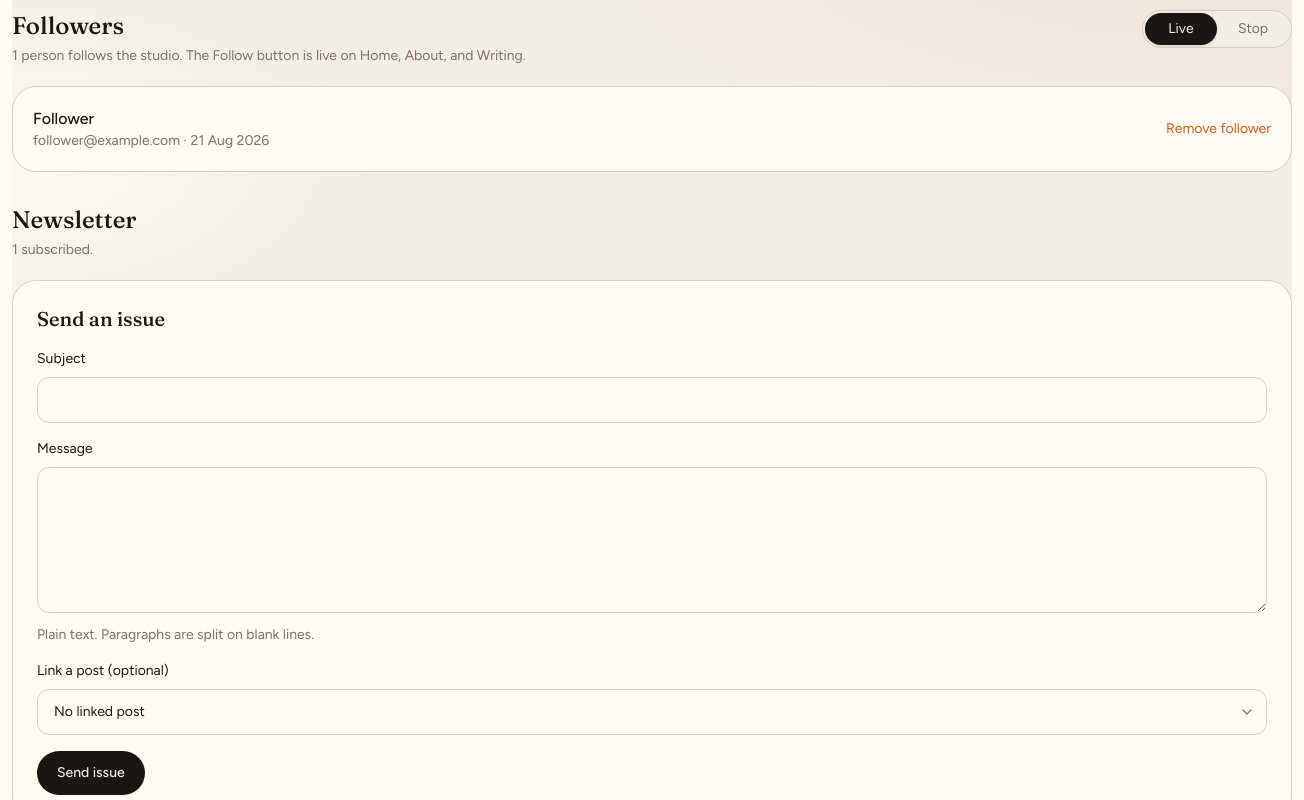
AdminAudiencePage › lets studio stop the public Follow button
(page scrolled)
Check: the heading "Followers" is shown, box [12,11,124,40]
Click the button "Stop": point(1253, 29) [1217,13,1289,45]
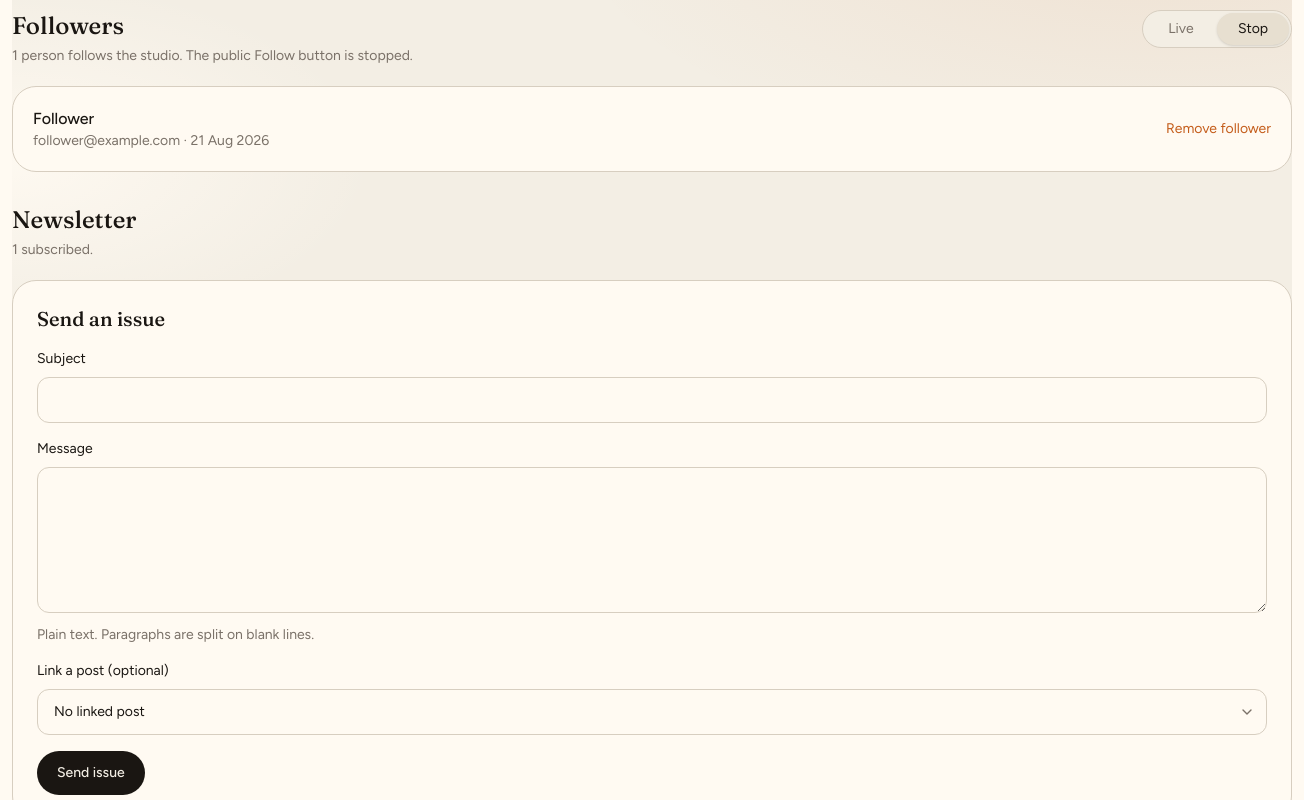
Check: the text "The public Follow button is stopped" is shown, box [182,47,413,64]
